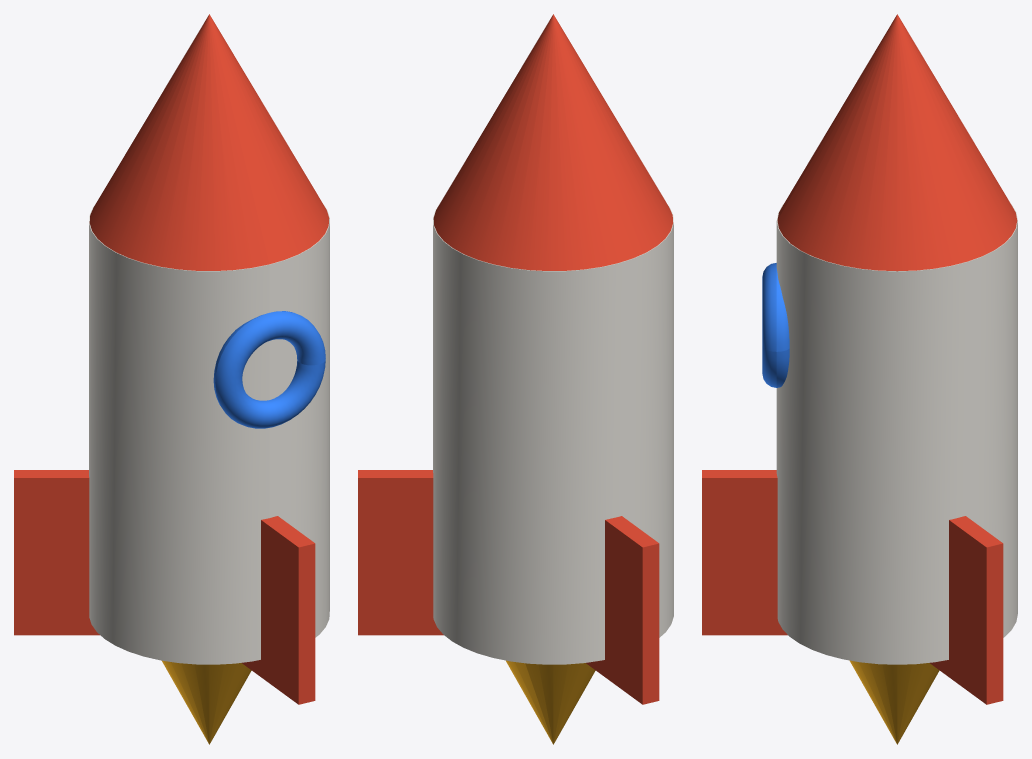
The model's file is rocket.glb.
The picture shows the model from 3 angles, left to right: view 1: azimuth 30°, elevation 25°; view 2: azimuth 150°, elevation 25°; view 3: azimuth 270°, elevation 25°; orthographic projection.
Parts seen in each view (by area): view 1: body, nose, fin_c, fin_a, window, flame; view 2: body, nose, fin_b, fin_c, flame; view 3: body, nose, fin_a, fin_b, flame, window.
Boxes of the visible parts, x1,y1,x2,y2 form: body: (89, 205, 329, 664); nose: (89, 14, 329, 270); fin_c: (14, 470, 99, 635); fin_a: (242, 516, 315, 704); window: (213, 311, 325, 428); flame: (162, 660, 251, 744); body: (433, 205, 673, 664); nose: (433, 14, 673, 270); fin_b: (358, 470, 443, 635); fin_c: (586, 516, 659, 704); flame: (506, 660, 595, 744); body: (776, 204, 1017, 664); nose: (777, 14, 1017, 271); fin_a: (702, 470, 787, 635); fin_b: (930, 516, 1003, 704); flame: (849, 660, 939, 744); window: (762, 263, 789, 387).
Size of the model in its own units: 1.44 by 3.35 by 1.31.
